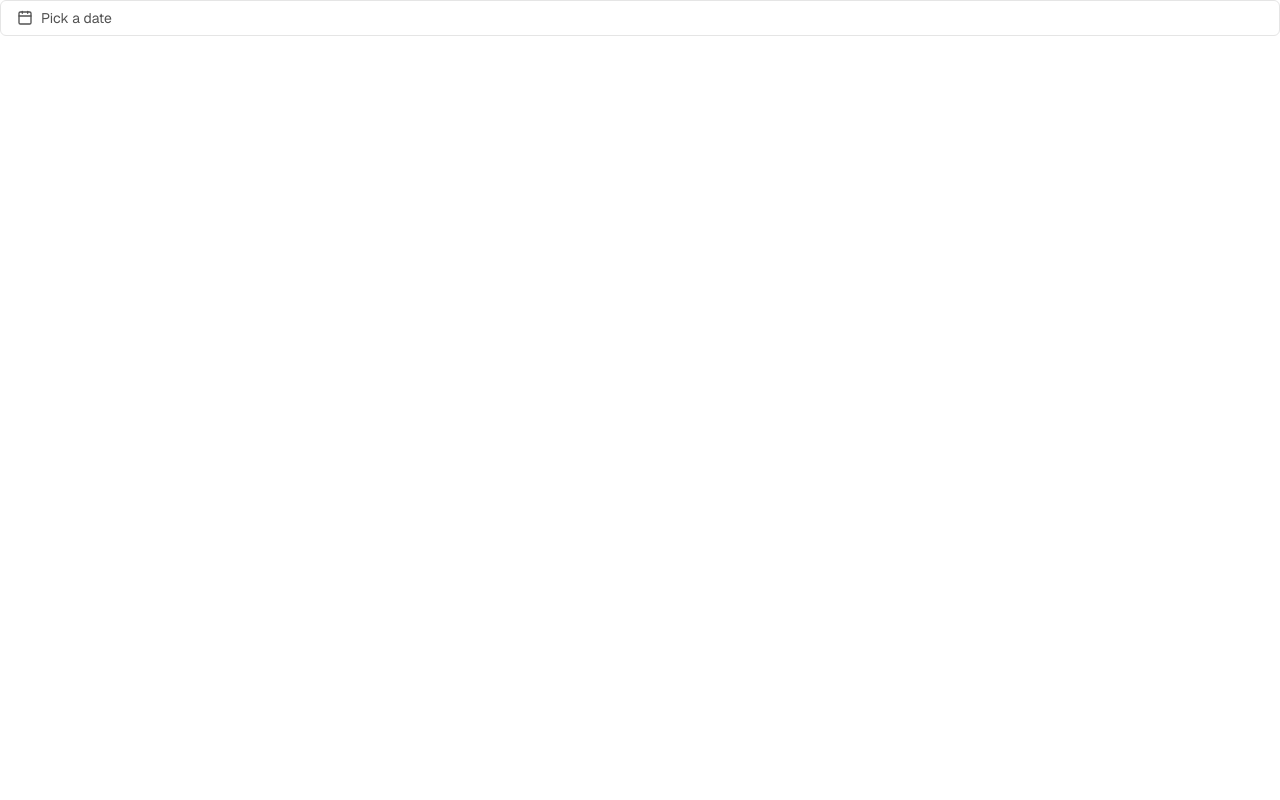
Scenario: DatePicker › opens a calendar and selects a day
Later steps or results of the test are not shown.
Click the button "Pick a date". click: (76, 18)
box: [0,0,1279,36]
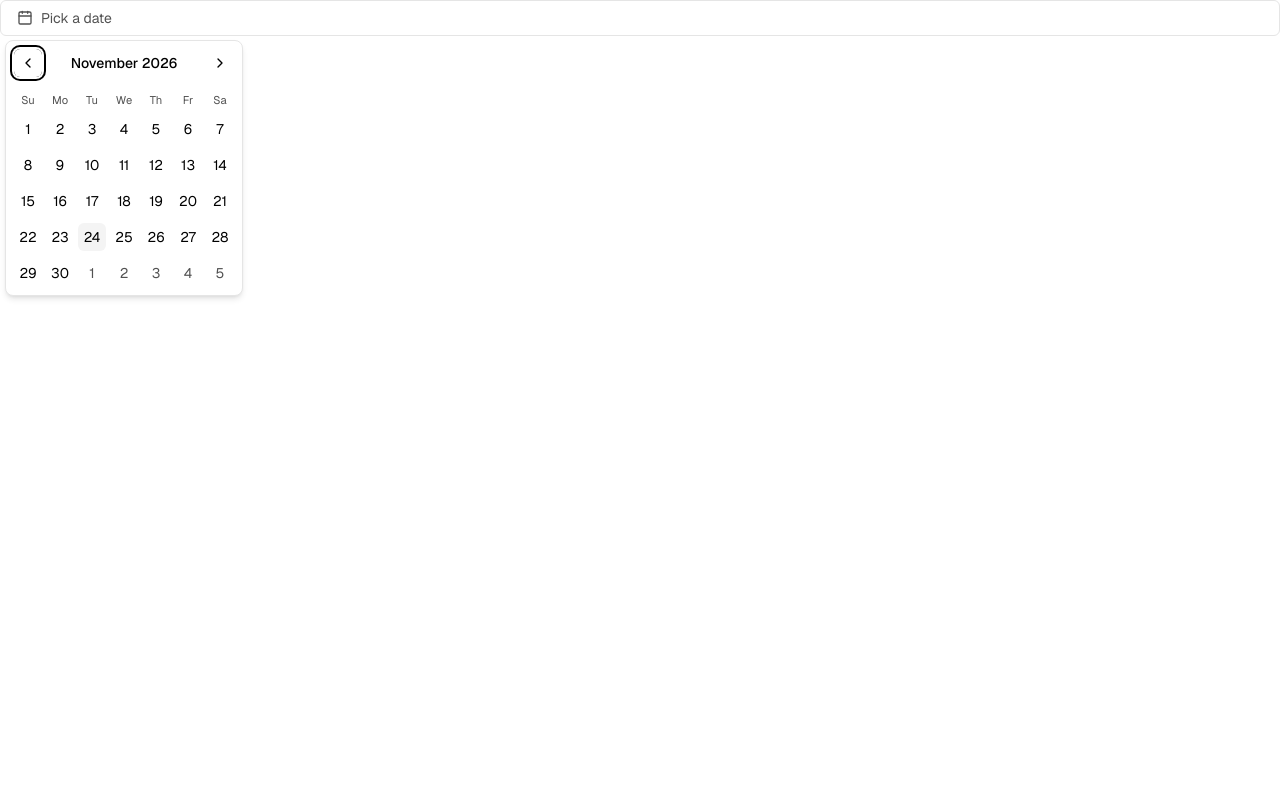
expect the table is shown: met, box [14,93,234,287]
